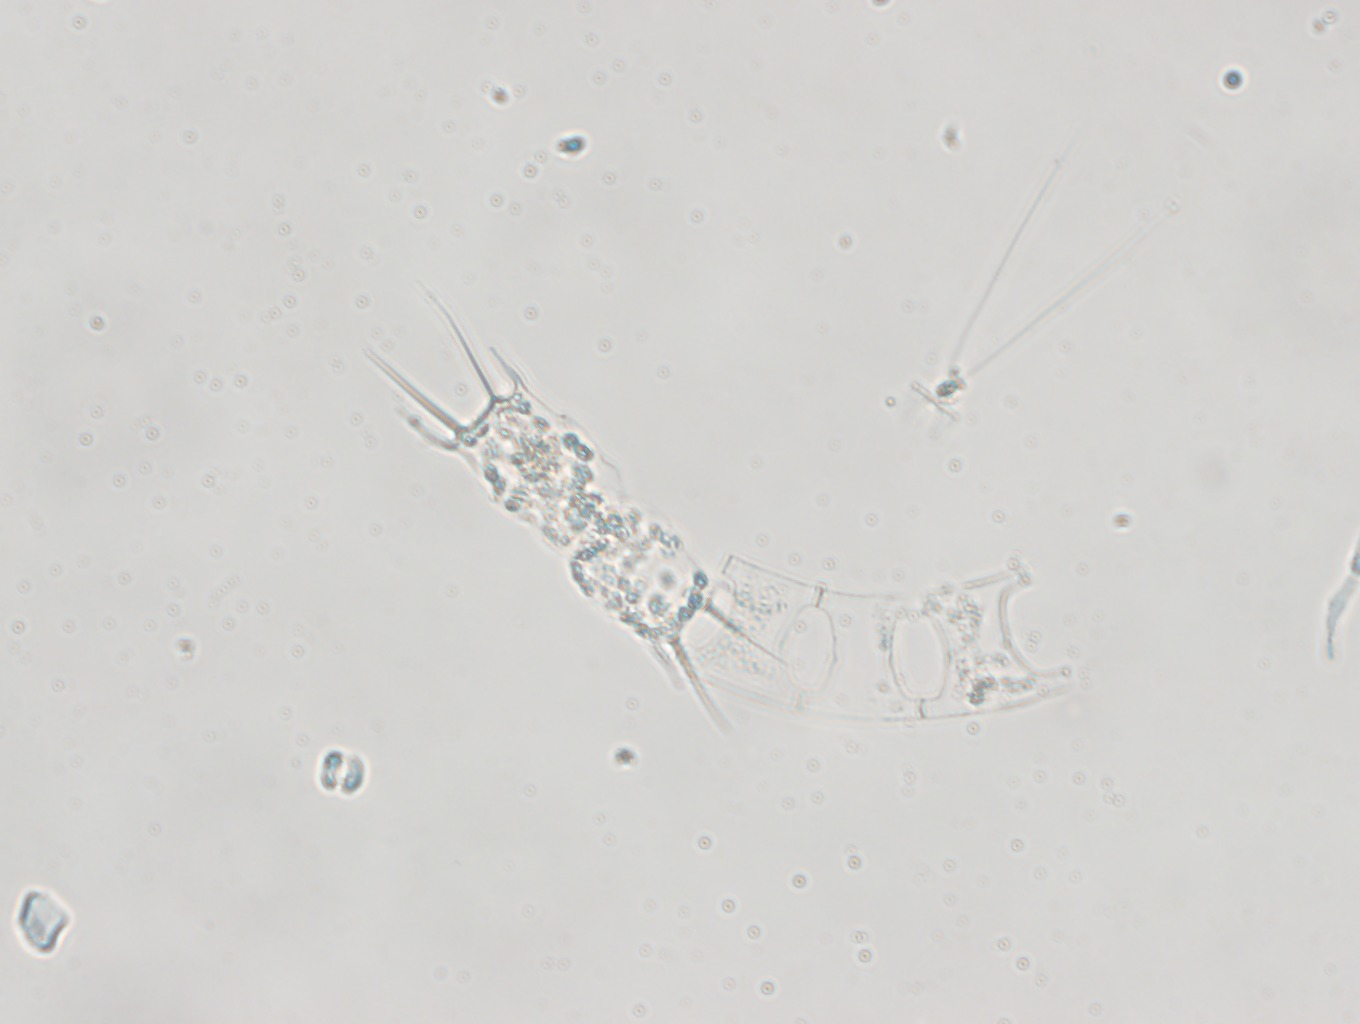biddulphia: (362, 285, 794, 754)
chaetoceros: (898, 123, 1170, 441)
eucampia: (696, 555, 1077, 726)
